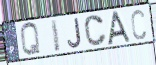A: (107, 10, 132, 47)
C: (83, 14, 108, 48), (130, 8, 148, 41)
I: (50, 18, 62, 54)
J: (67, 16, 83, 50)
Q: (19, 21, 42, 58)
